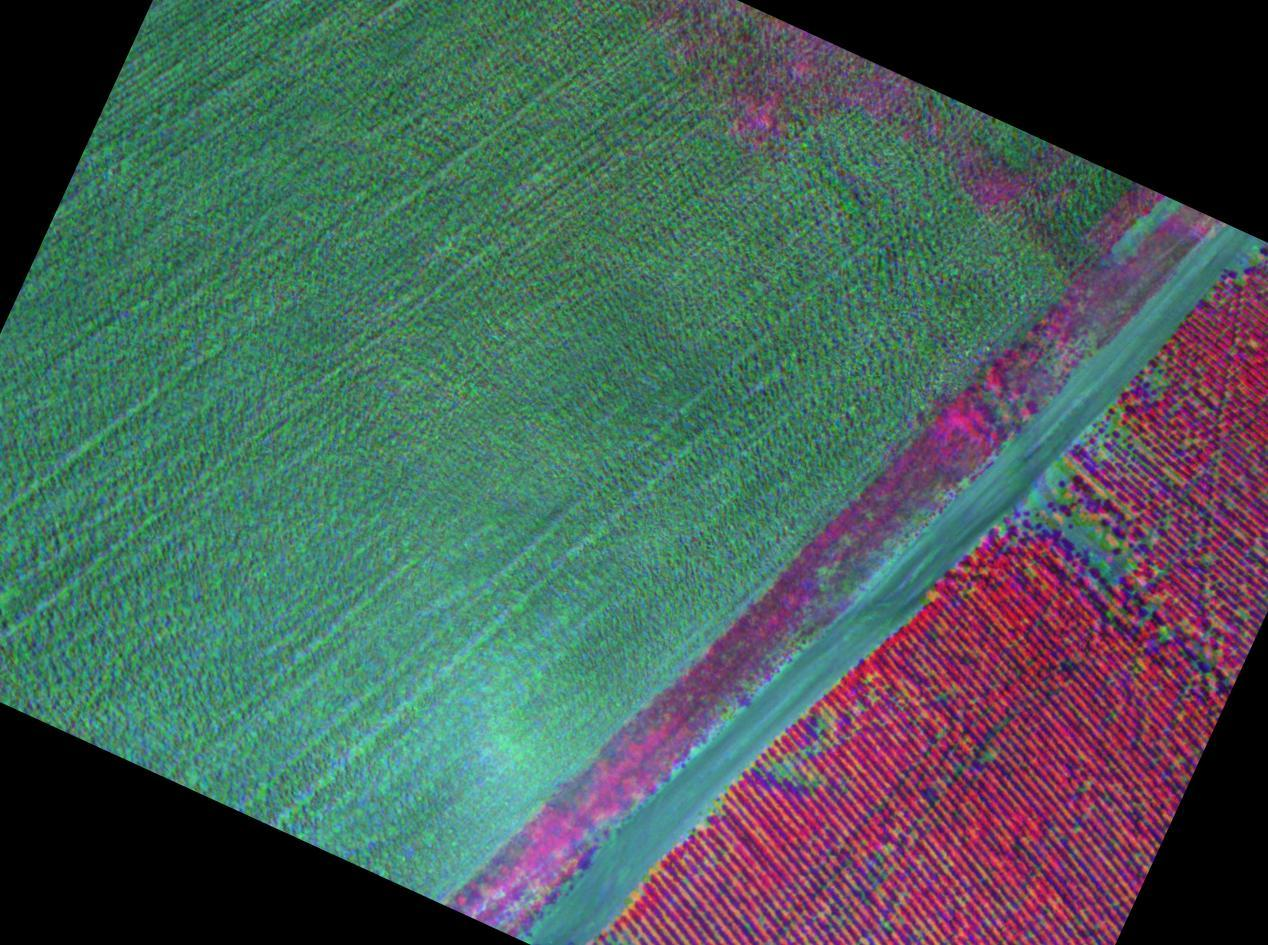dc: (1204, 653, 1214, 664), (980, 753, 992, 761), (1073, 529, 1082, 537), (1105, 563, 1114, 571), (778, 767, 787, 775), (1138, 443, 1146, 451), (1096, 534, 1104, 542), (1152, 378, 1160, 385), (1161, 630, 1167, 638), (1111, 421, 1117, 428)
